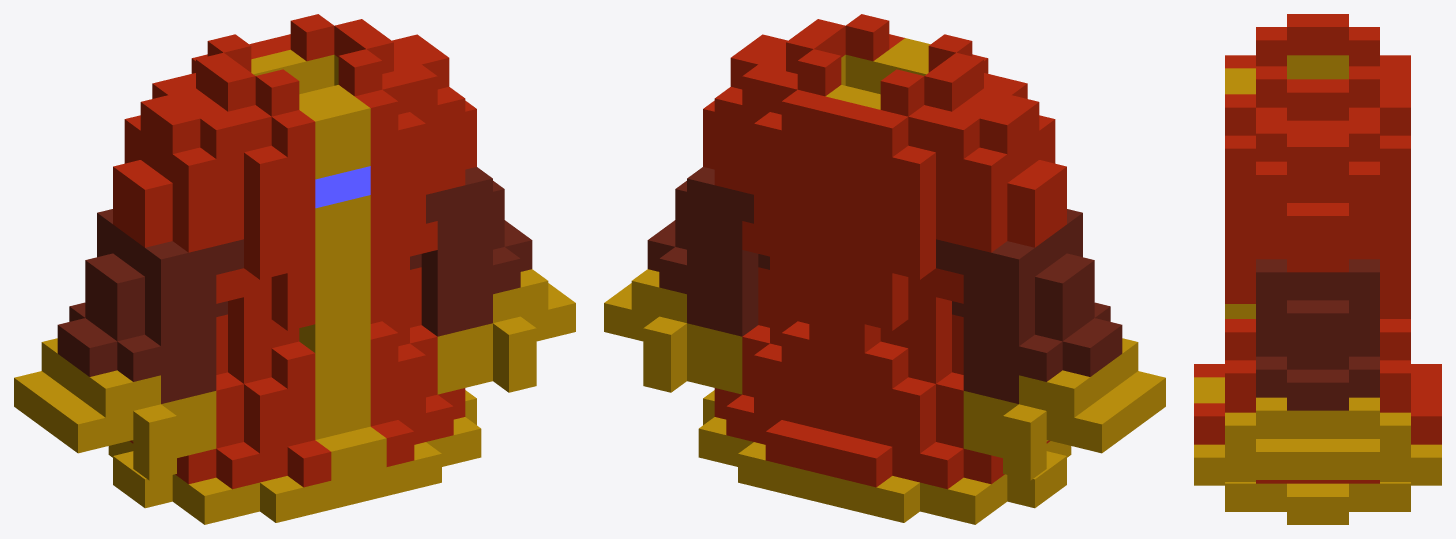
The model's file is item_ARMOR_MAGE.glb.
3 views of the same model, side by side, from view 1: azimuth 30°, elevation 25°; view 2: azimuth 150°, elevation 25°; view 3: azimuth 270°, elevation 25° (orthographic). The views are drawn at different scales.
Visible parts, largest first — view 1: item_ARMOR_MAGE; view 2: item_ARMOR_MAGE; view 3: item_ARMOR_MAGE.
Part boxes in pixels (box(x1,y1,x2,y2)): item_ARMOR_MAGE: box(14, 14, 575, 524); item_ARMOR_MAGE: box(604, 14, 1165, 524); item_ARMOR_MAGE: box(1194, 14, 1441, 524).
Bounding box in the file's own units: 0.4091 × 0.3182 × 0.1818.
1 material, 1 textured.
